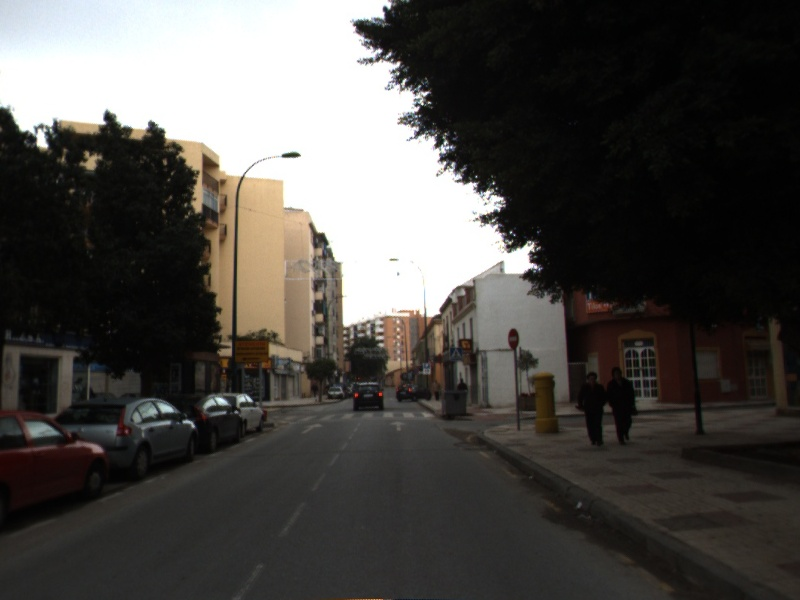STRAIGHT: (299, 421, 326, 435), (388, 419, 409, 432)
